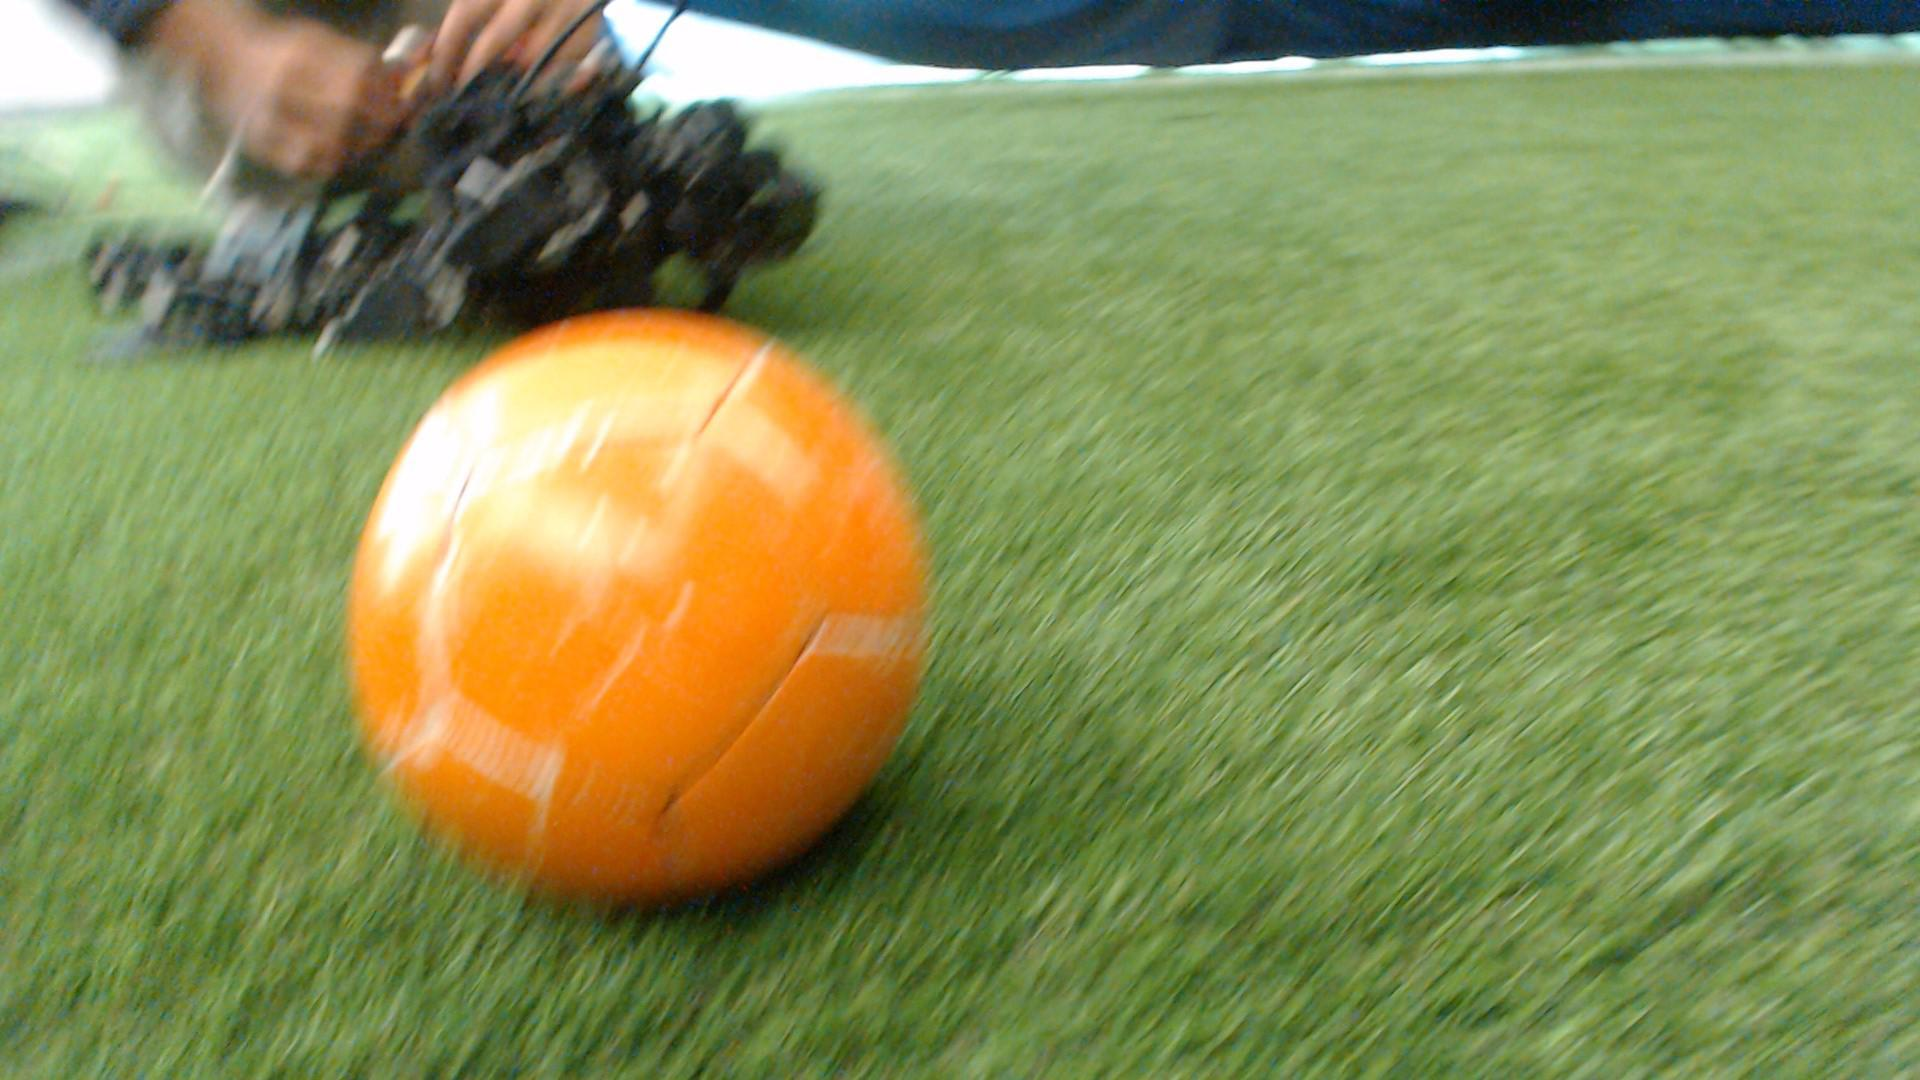bola: (342, 295, 940, 923)
